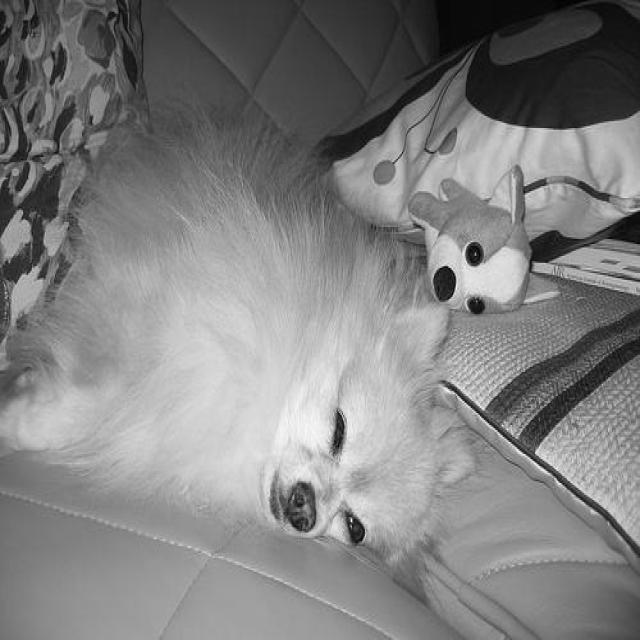laying down: (0, 94, 483, 570)
